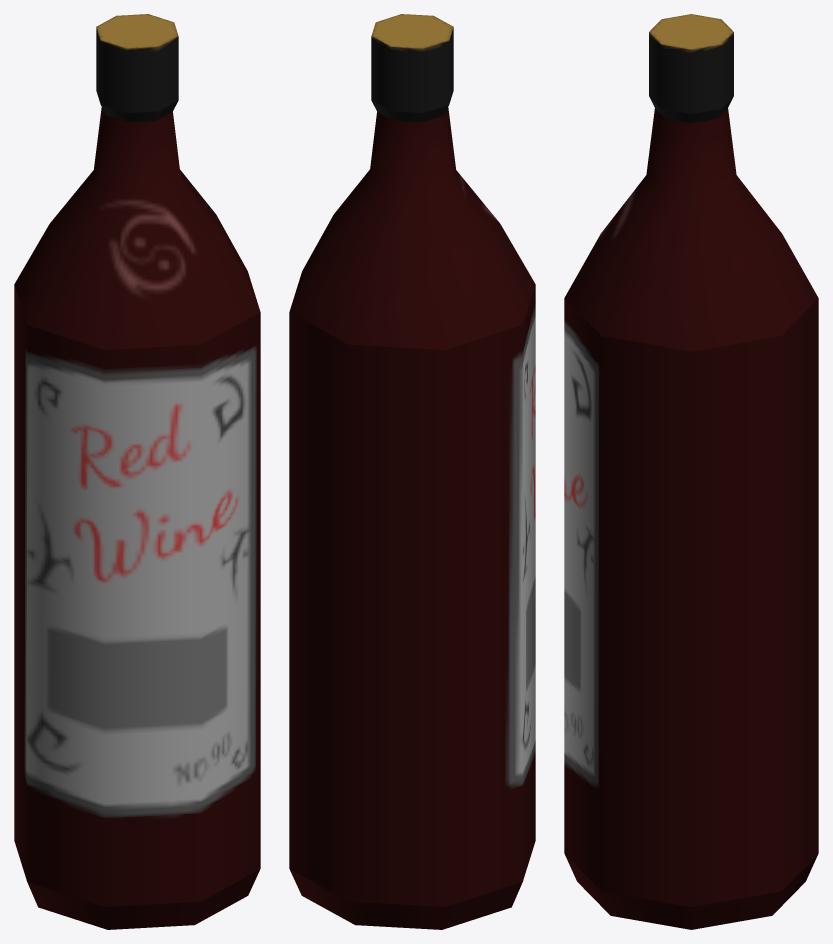
File: Red_Wine.fbx
The picture shows the model from 3 angles, left to right: view 1: azimuth 30°, elevation 25°; view 2: azimuth 150°, elevation 25°; view 3: azimuth 270°, elevation 25°; orthographic projection.
Parts seen in each view (by area): view 1: Red_Wine; view 2: Red_Wine; view 3: Red_Wine.
Part boxes in pixels (x1,y1,x2,y2): Red_Wine: (14, 14, 260, 929); Red_Wine: (289, 14, 535, 929); Red_Wine: (564, 14, 818, 929).
Size of the model in its own units: 7.53 by 27.77 by 7.53.
